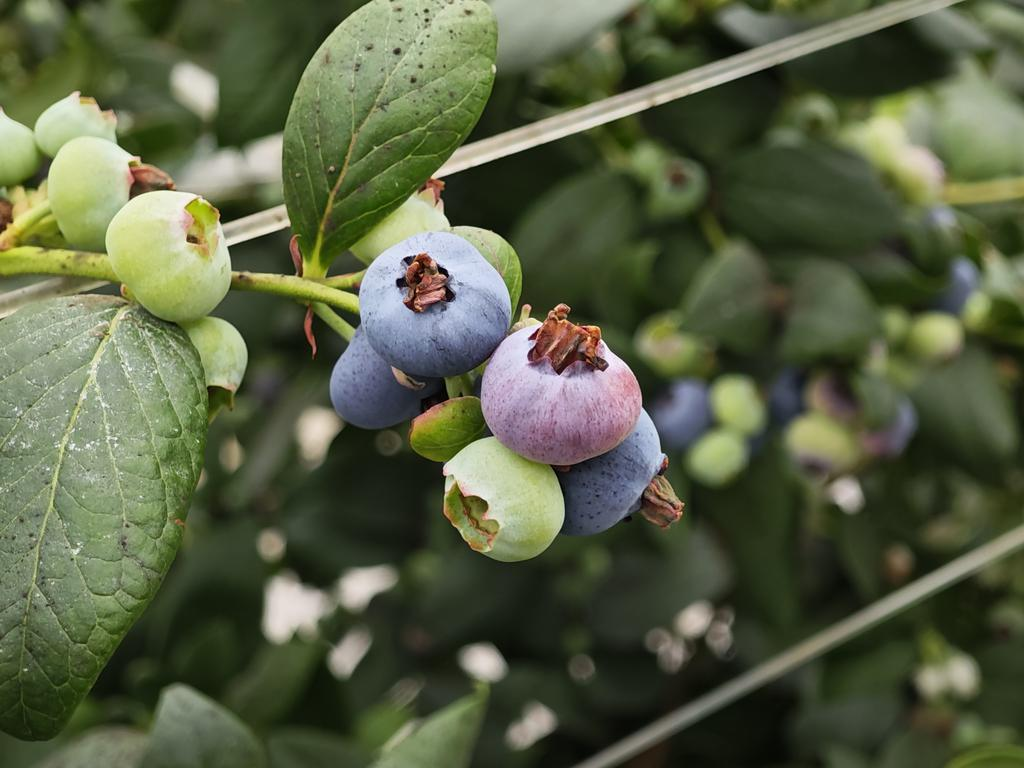RipeBlueBerry: (362, 224, 512, 380)
Semi-RipeBlueBerry: (486, 321, 643, 464)
UnripeBlueBerry: (108, 189, 236, 322), (444, 432, 566, 560)
